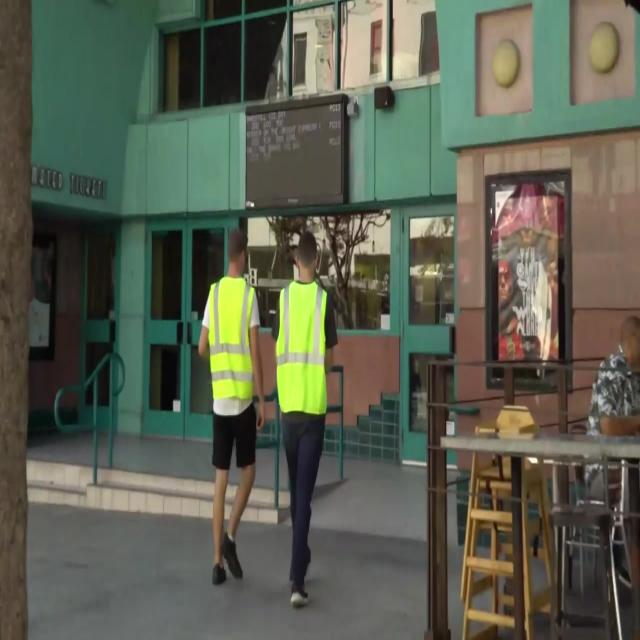Reflective-Jacket: (273, 276, 331, 419), (205, 273, 259, 420)
